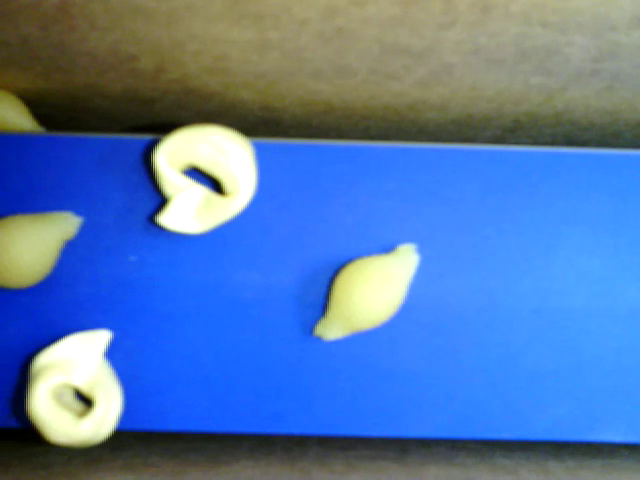shell: (311, 239, 423, 344), (1, 209, 86, 285), (1, 87, 48, 134)
tortellini: (150, 123, 258, 236), (24, 327, 123, 448)
